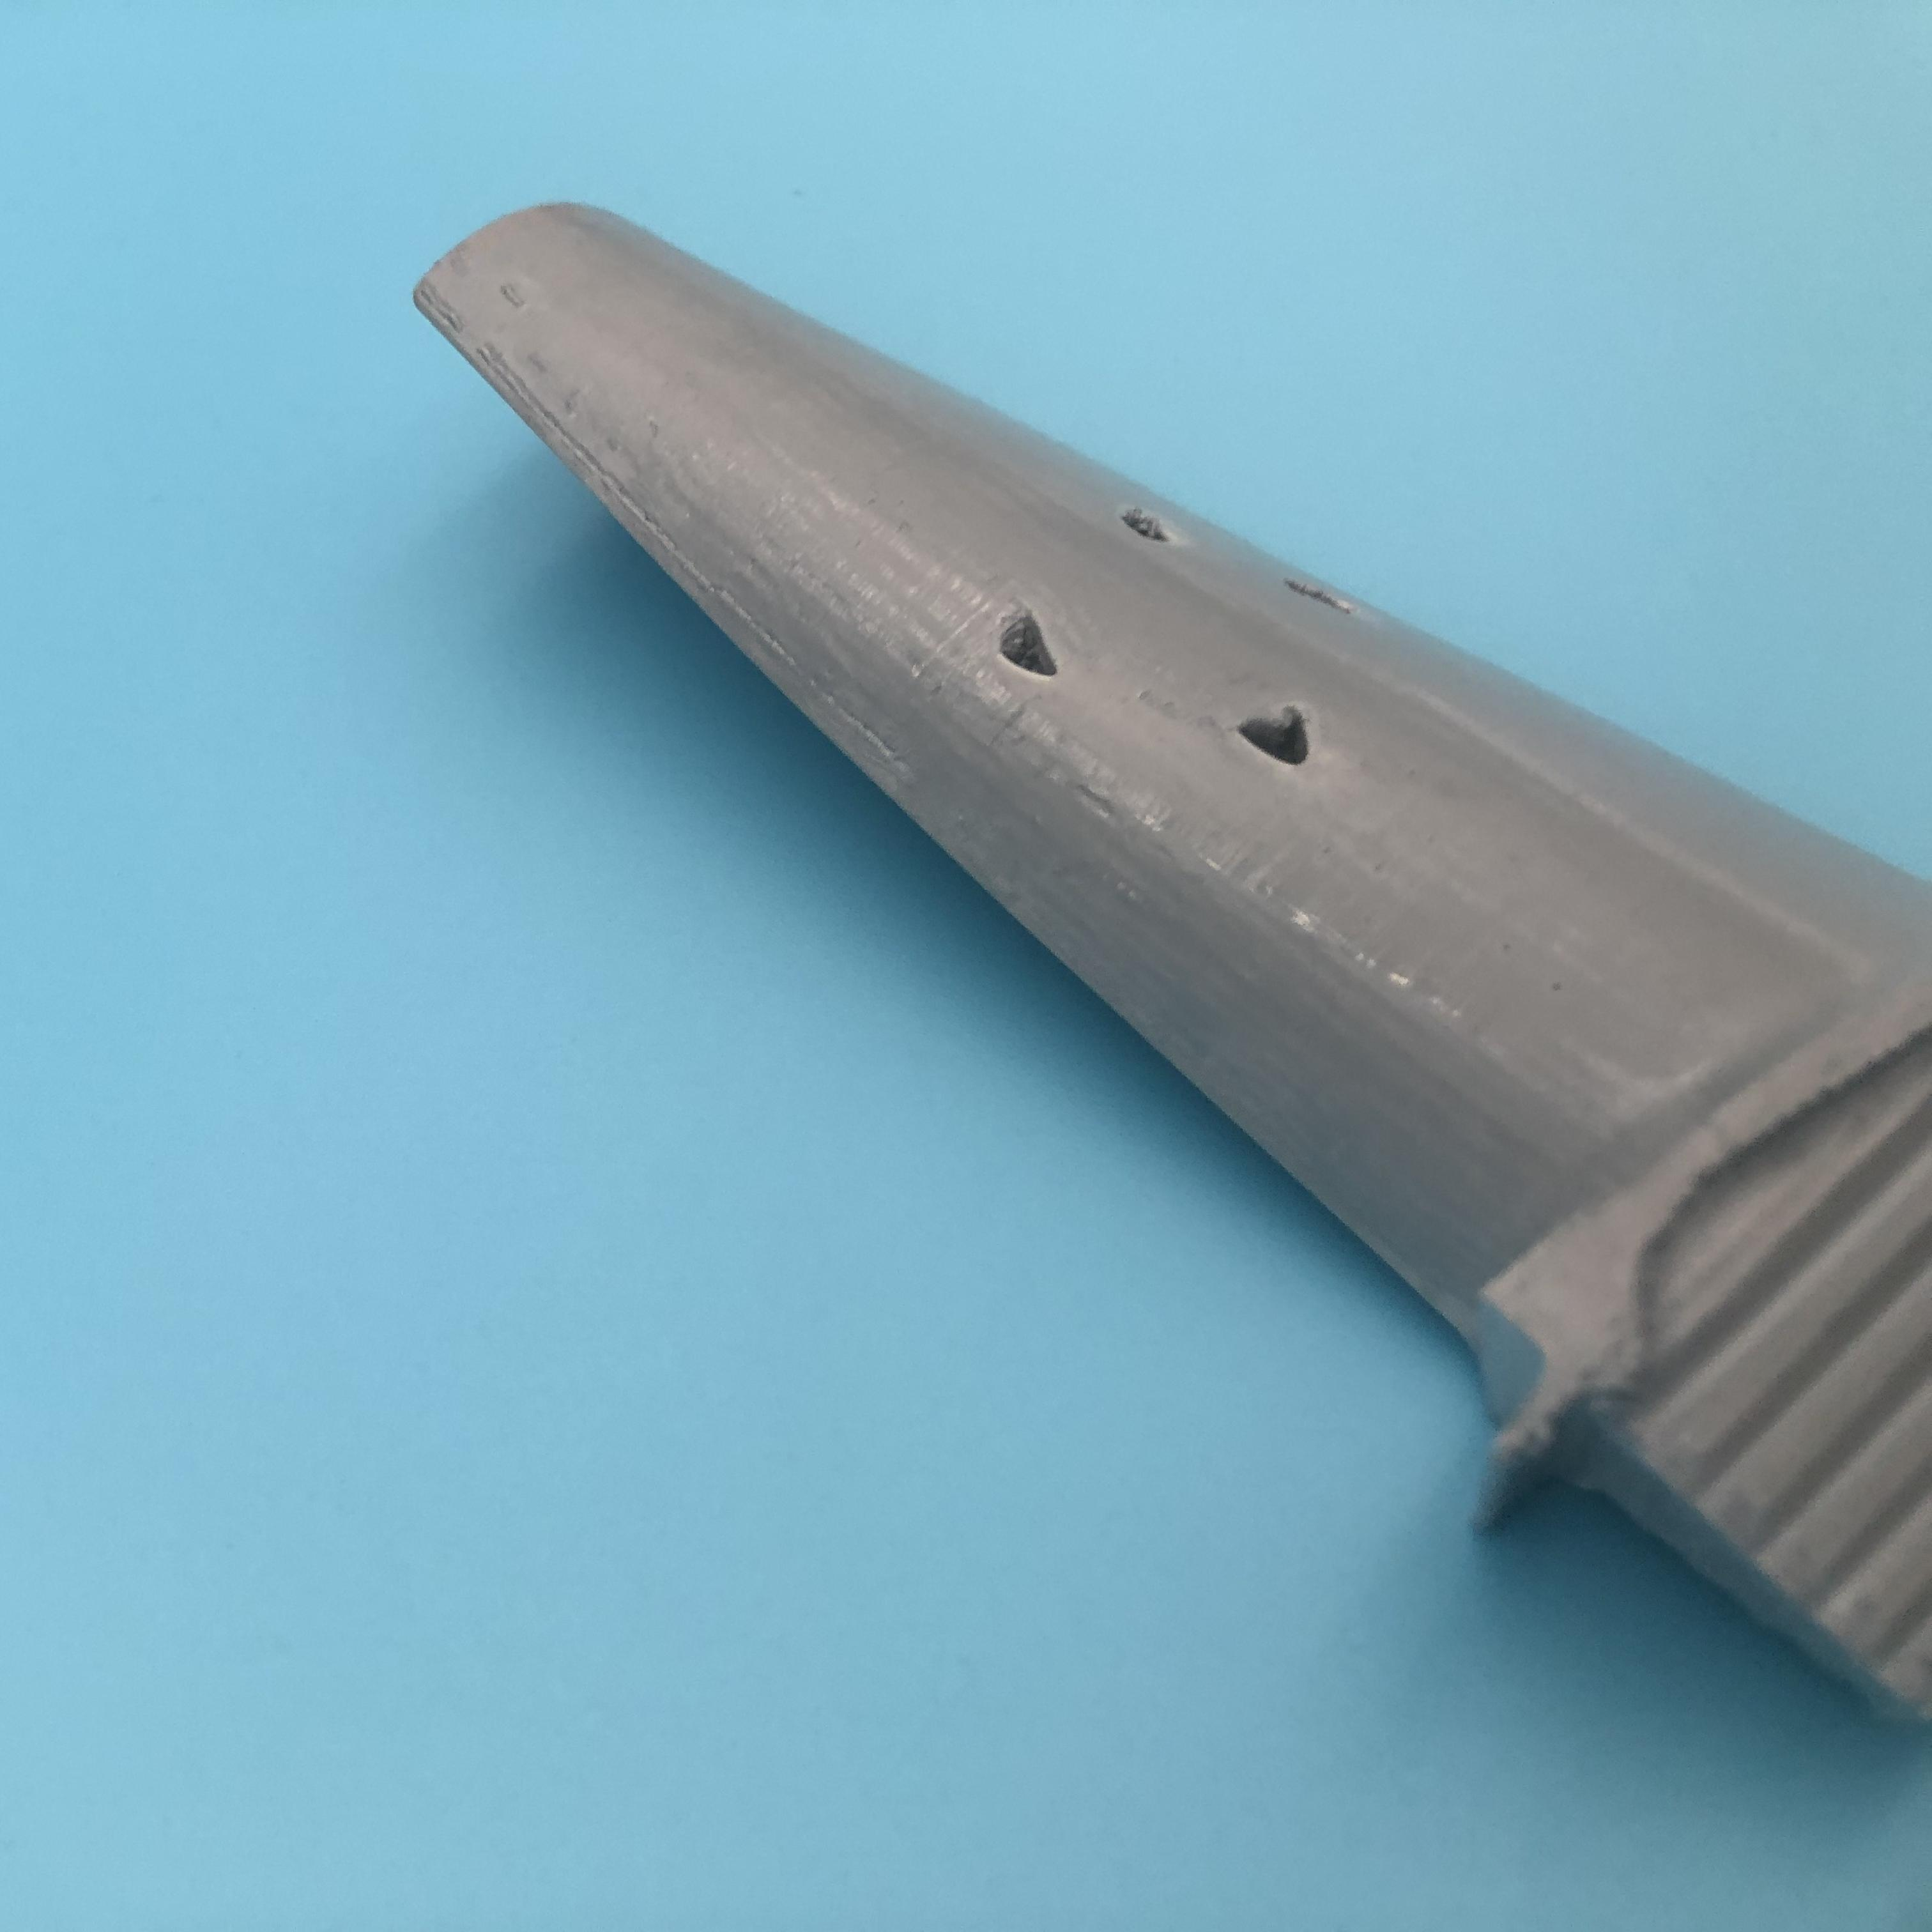breakdown: (1014, 474, 1327, 764)
